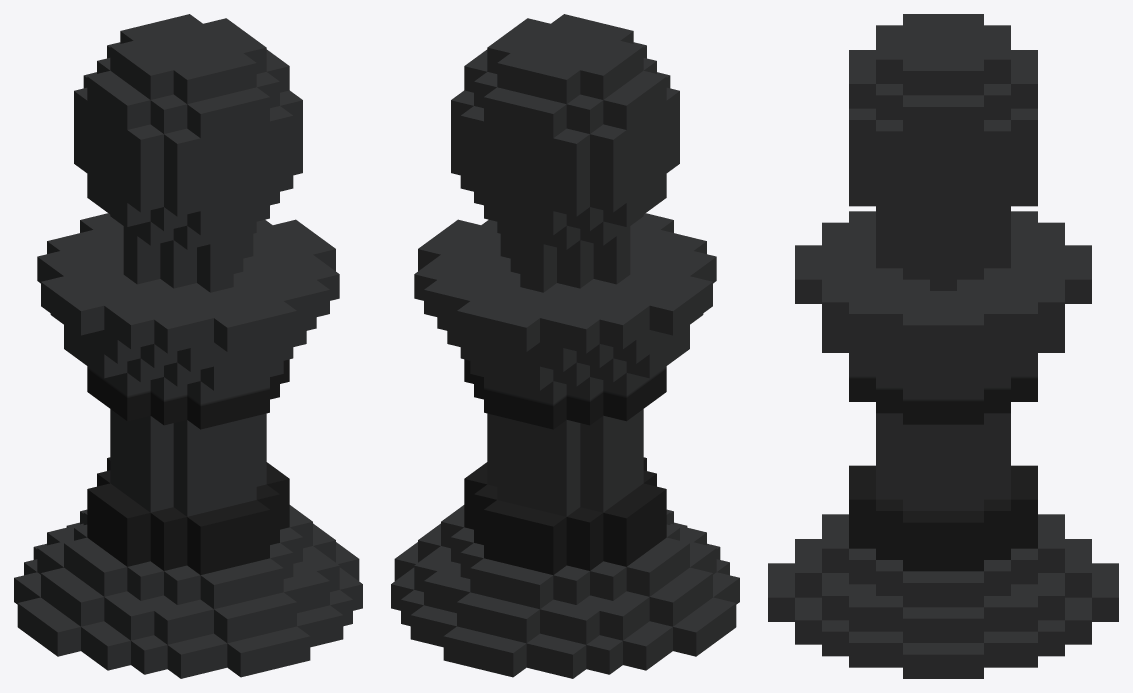
File: blackP.dae
3 renders of one model, left to right at view 1: azimuth 30°, elevation 25°; view 2: azimuth 150°, elevation 25°; view 3: azimuth 270°, elevation 25°, orthographic.
Parts seen in each view (by area): view 1: blackP; view 2: blackP; view 3: blackP.
Part boxes in pixels (x1,y1,x2,y2): blackP: (14,14,362,678); blackP: (391,14,739,678); blackP: (768,14,1118,678).
Size of the model in its own units: 13 by 23 by 13.
Materials: 1 (1 with a texture image).
